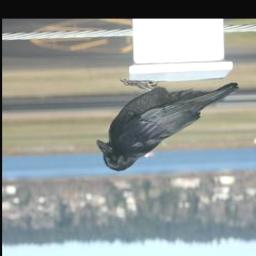Crow: (96, 80, 241, 173)
